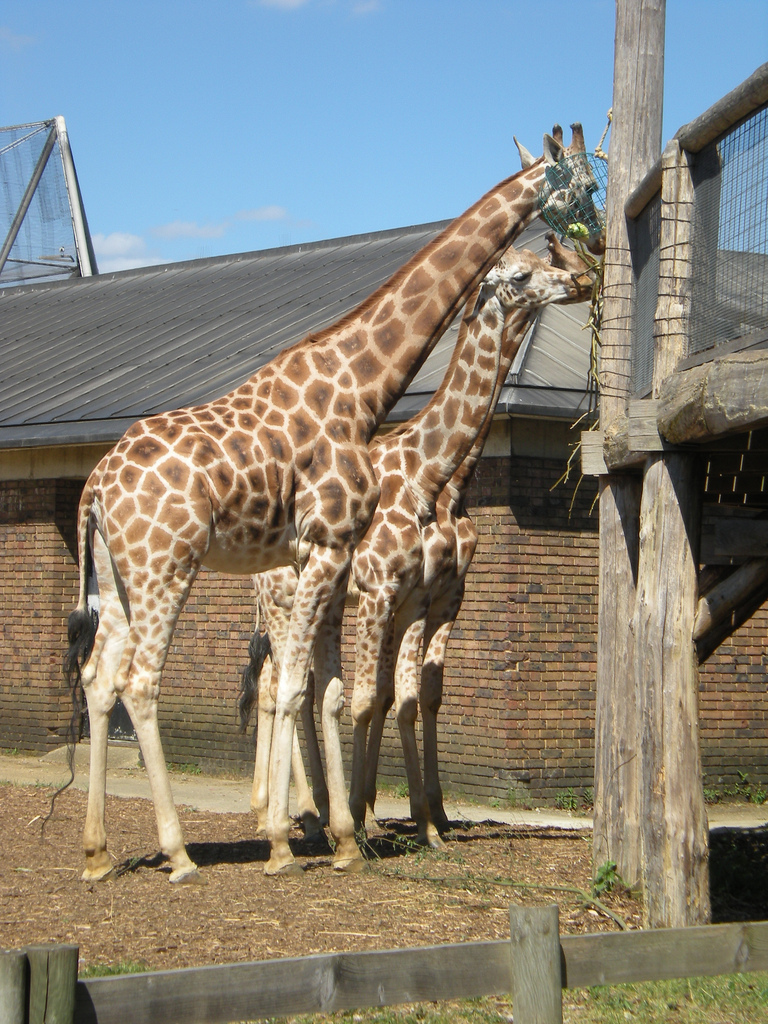giraffe: (84, 121, 606, 868), (265, 237, 601, 907)
